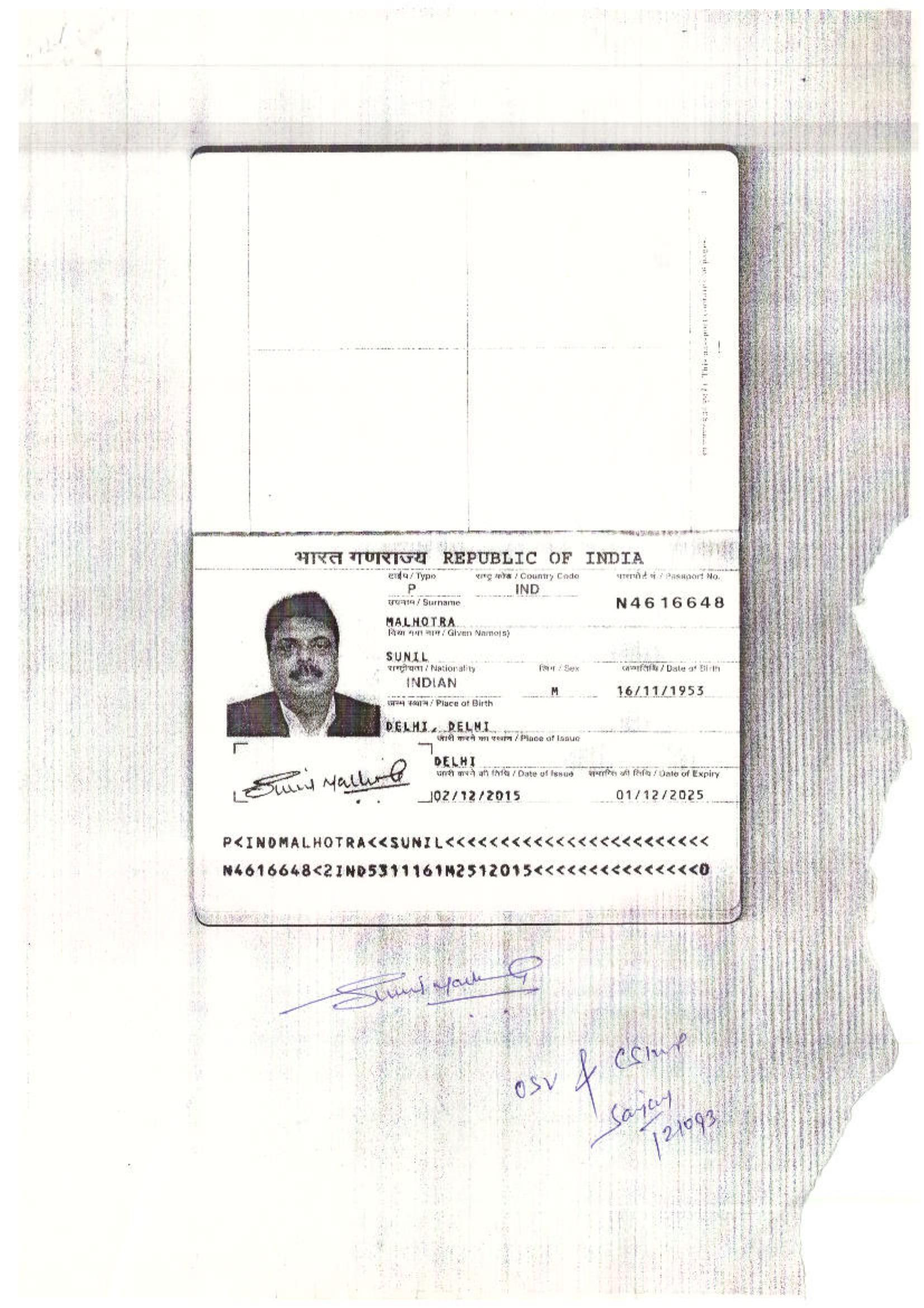DOB: (605, 676, 718, 702)
Surname: (382, 612, 462, 633)
country_code: (509, 581, 553, 602)
date_of_expiry: (600, 780, 717, 806)
date_of_issue: (430, 779, 529, 813)
details: (211, 828, 720, 883)
name: (377, 643, 443, 664)
nationality: (392, 670, 473, 697)
passport_no: (608, 587, 731, 617)
photo: (236, 587, 372, 726)
place_of_birth: (382, 712, 494, 737)
place_of_issue: (431, 749, 484, 773)
sex: (538, 675, 576, 704)
sign: (247, 762, 409, 797)
type: (395, 580, 432, 601)
